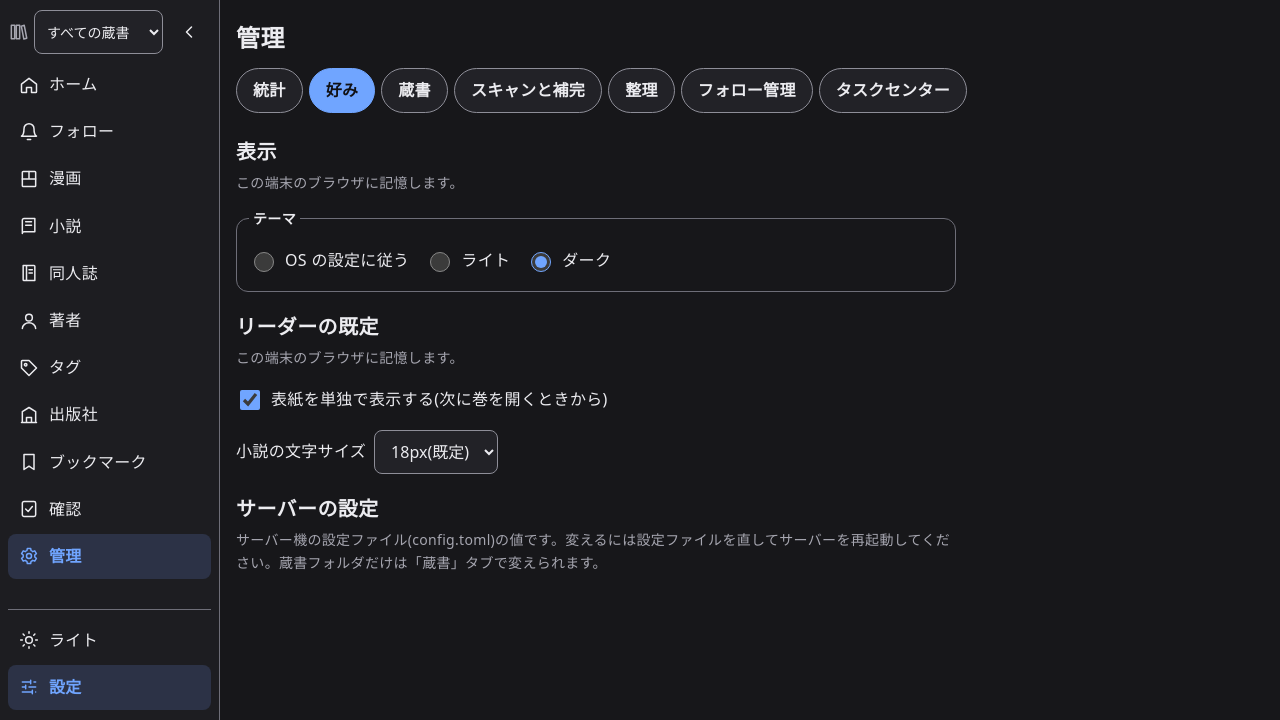
Test: ライト/ダーク › 好みタブで OS に従うへ戻せる
Click the radio button labelled "OS の設定に従う".
click(264, 262)  # box [254,252,274,272]
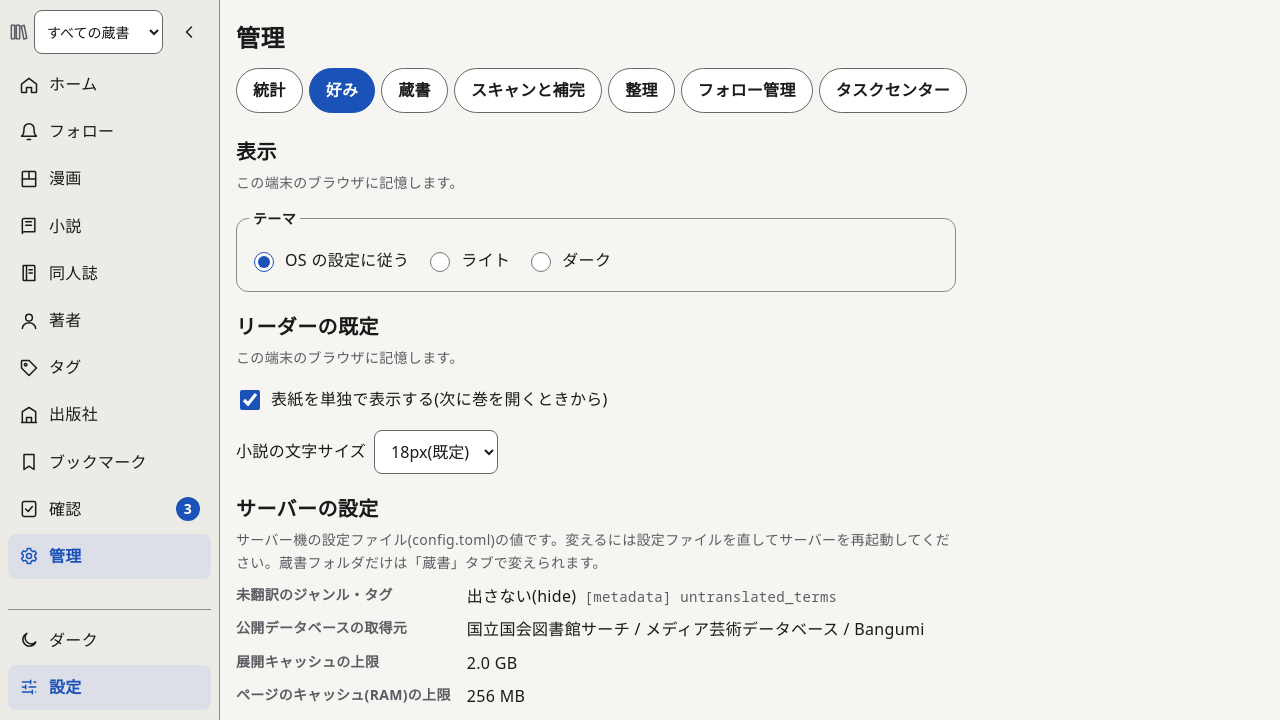
Expected: the button with aria-label "ダークにする" is shown, [8,618,211,663]
